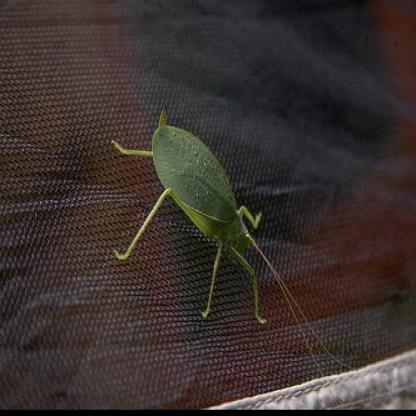aphid: (119, 109, 312, 350)
